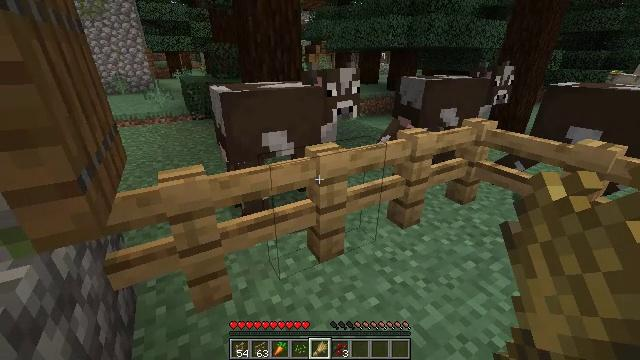cow: (206, 68, 363, 219), (493, 83, 640, 196), (396, 64, 513, 169)
